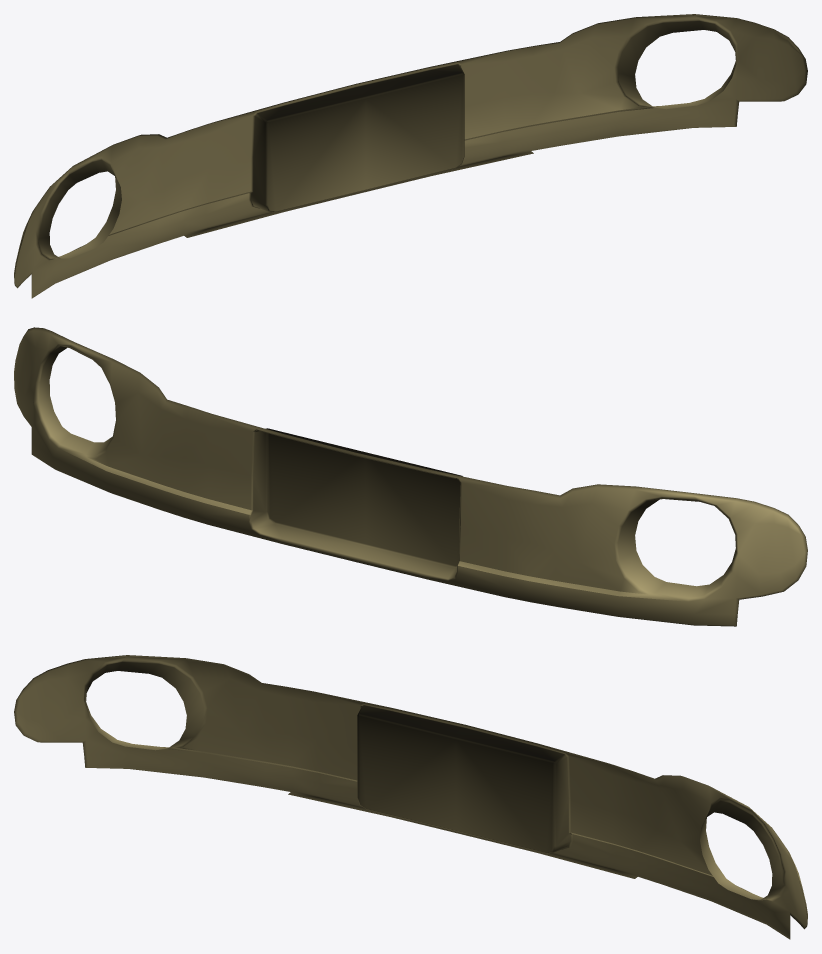
Rendered from MX5_BrakeLight03_Duco.fbx.
The picture shows the model from 3 angles, top to bottom: view 1: azimuth 30°, elevation 25°; view 2: azimuth 150°, elevation 25°; view 3: azimuth 330°, elevation 25°; orthographic projection.
Parts seen in each view (by area): view 1: MX5_BrakeLight03_Duco; view 2: MX5_BrakeLight03_Duco; view 3: MX5_BrakeLight03_Duco.
Part boxes in pixels (x1=…): MX5_BrakeLight03_Duco: x1=14, y1=14, x2=807, y2=298; MX5_BrakeLight03_Duco: x1=14, y1=327, x2=807, y2=626; MX5_BrakeLight03_Duco: x1=14, y1=655, x2=807, y2=939.
Bounding box in the file's own units: 134 × 20.18 × 17.43.
